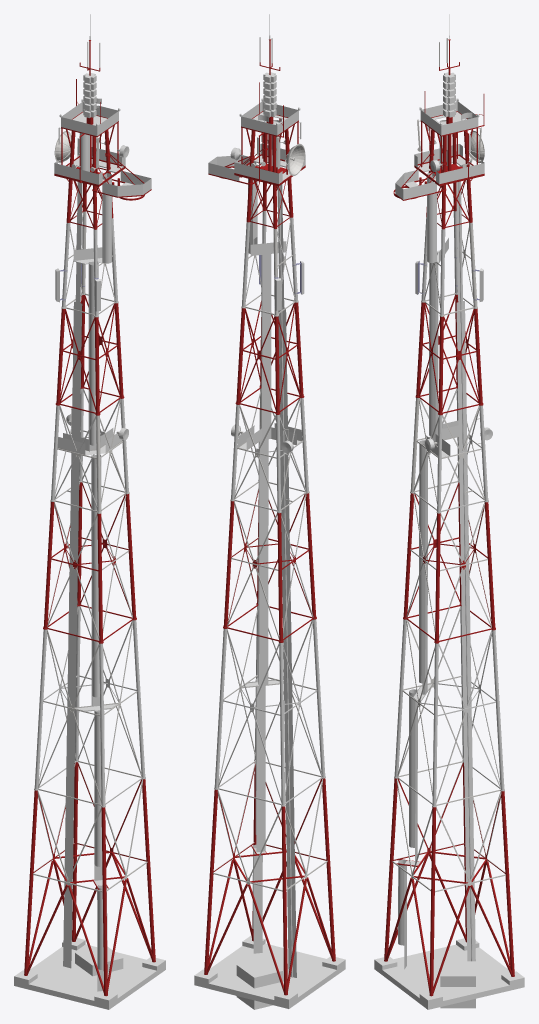
File: Телевышка.fbx
The picture shows the model from 3 angles, left to right: view 1: azimuth 30°, elevation 25°; view 2: azimuth 210°, elevation 25°; view 3: azimuth 270°, elevation 25°; orthographic projection.
Parts seen in each view (by area): view 1: Sketchup, Cube; view 2: Sketchup, Cube; view 3: Sketchup, Cube.
Part boxes in pixels (bbox=[...]): Sketchup: bbox=[14, 14, 165, 1009]; Cube: bbox=[75, 946, 123, 976]; Sketchup: bbox=[194, 14, 345, 1008]; Cube: bbox=[236, 957, 283, 1009]; Sketchup: bbox=[374, 14, 524, 1009]; Cube: bbox=[440, 961, 475, 1008].
Size of the model in its own units: 847 by 6090 by 847.
